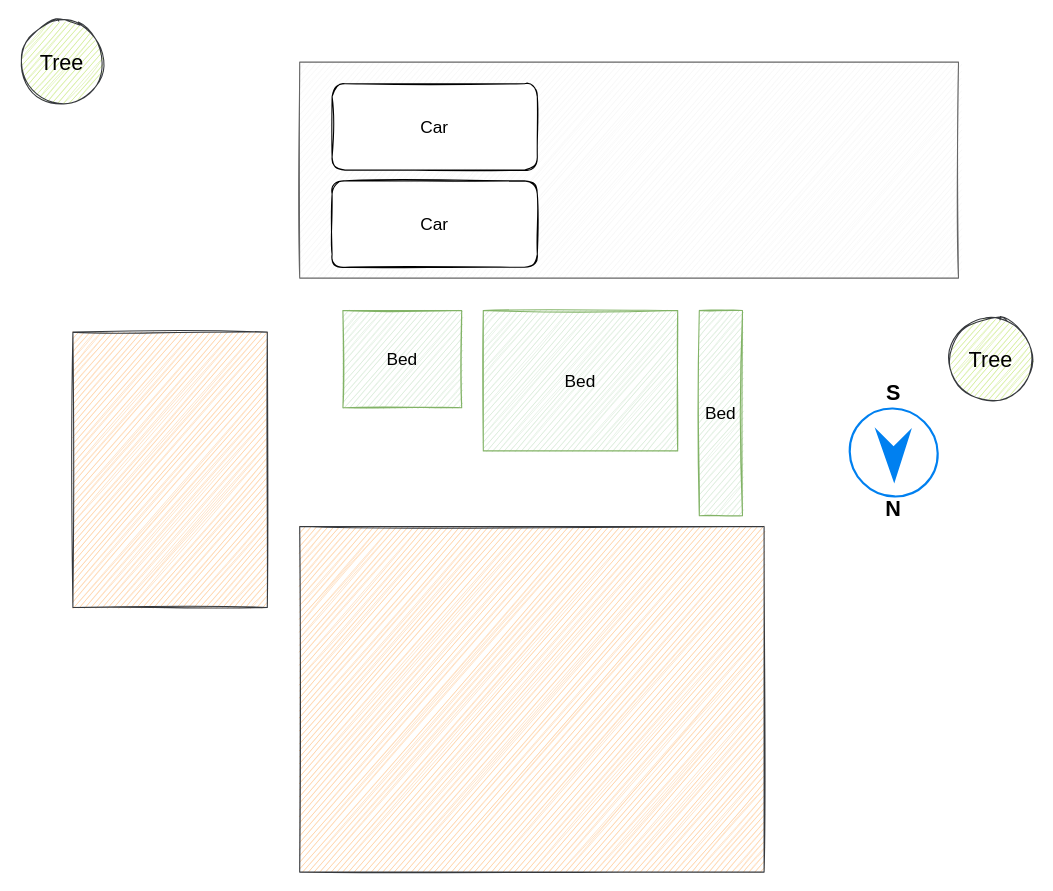
Some shapes in this 1053 by 891 pixel diagram are drawn without their labels. The box of each missing label's shape, as (x1, y1, x2, y2) in pixels:
Deck: (299, 525, 764, 872)
Driveway: (299, 61, 959, 278)
Shed: (72, 331, 267, 608)
